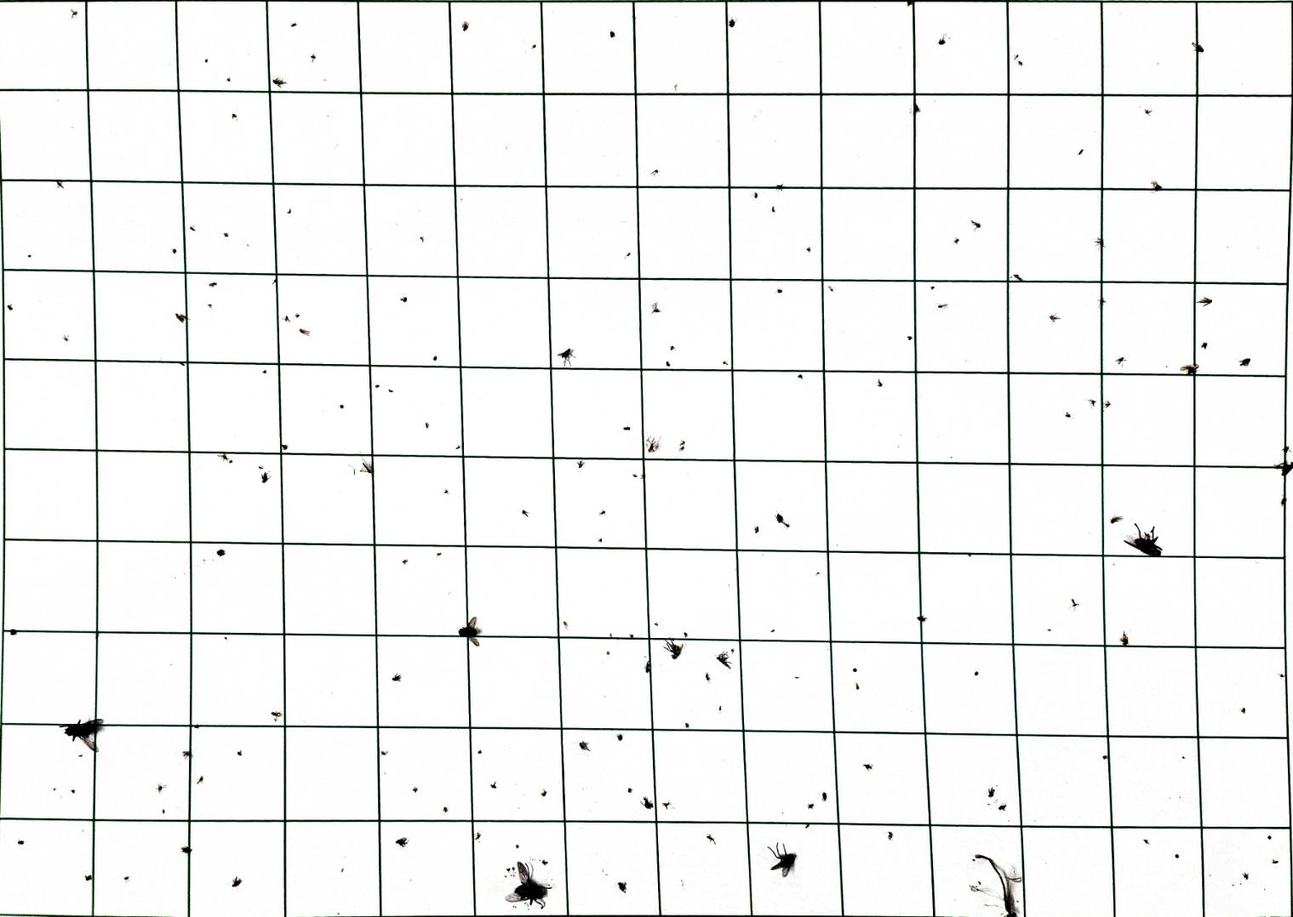fly: (504, 860, 553, 910), (62, 717, 103, 753), (1124, 521, 1163, 554), (768, 839, 798, 877), (455, 617, 485, 645)
test: (968, 851, 1024, 917), (985, 784, 1008, 813), (1272, 454, 1292, 482), (664, 639, 684, 659), (352, 458, 374, 476), (557, 346, 576, 366), (1088, 398, 1113, 411), (646, 435, 661, 453), (717, 652, 732, 669), (775, 513, 789, 529), (1179, 364, 1200, 374), (641, 795, 654, 810), (1192, 41, 1205, 53), (272, 77, 286, 88), (218, 453, 233, 463), (1119, 630, 1129, 645), (1284, 461, 1293, 477), (395, 837, 408, 848), (909, 104, 921, 115), (260, 471, 271, 483), (938, 33, 949, 45), (505, 865, 517, 876), (1198, 297, 1212, 306), (1110, 515, 1124, 524), (181, 847, 192, 858), (231, 876, 242, 887), (579, 740, 590, 751), (651, 301, 661, 313), (1049, 313, 1061, 323), (175, 313, 187, 323), (1014, 53, 1023, 66), (156, 783, 167, 793), (706, 833, 716, 844), (299, 326, 310, 336), (593, 535, 604, 545), (1150, 181, 1162, 190), (1239, 358, 1251, 367), (618, 881, 627, 893), (644, 659, 651, 674), (440, 485, 450, 495), (970, 220, 981, 229), (1070, 598, 1079, 609), (452, 441, 461, 452), (283, 206, 294, 215), (270, 711, 282, 719), (1088, 398, 1098, 407), (1094, 237, 1103, 247), (576, 459, 585, 469), (987, 787, 996, 797), (215, 547, 225, 556), (720, 357, 729, 367), (169, 246, 179, 255), (1013, 273, 1024, 281), (23, 251, 34, 259), (56, 180, 65, 189), (70, 9, 79, 18), (255, 462, 264, 471), (336, 401, 345, 410), (259, 367, 268, 376), (1115, 357, 1125, 365), (661, 801, 671, 809), (430, 352, 438, 362), (628, 471, 638, 479), (715, 703, 723, 713), (813, 570, 823, 578), (916, 615, 927, 622), (679, 440, 686, 451), (1045, 625, 1052, 636), (1098, 298, 1107, 306), (1276, 670, 1285, 678), (181, 750, 190, 758), (776, 183, 785, 191), (936, 303, 948, 309), (392, 673, 401, 681), (9, 628, 18, 636), (681, 629, 689, 638), (768, 626, 777, 634), (270, 275, 278, 284), (474, 831, 481, 841), (462, 22, 469, 32), (729, 18, 736, 28), (681, 721, 691, 728), (521, 509, 529, 517), (616, 733, 624, 741), (158, 806, 166, 814), (433, 549, 441, 557), (626, 631, 634, 639), (623, 249, 631, 257), (905, 0, 913, 8), (196, 775, 203, 784), (864, 763, 873, 770), (84, 874, 93, 881), (1144, 108, 1153, 115), (651, 619, 660, 626), (728, 645, 735, 654), (530, 41, 537, 50), (224, 76, 233, 83), (705, 672, 711, 682), (1288, 494, 1293, 506), (822, 791, 828, 801), (770, 204, 776, 214), (490, 781, 497, 789), (62, 335, 70, 342), (1200, 342, 1208, 349), (540, 789, 547, 797), (380, 749, 388, 756), (651, 169, 659, 176), (1243, 872, 1250, 880), (609, 30, 616, 38), (385, 386, 393, 393), (474, 748, 482, 755), (851, 665, 858, 673), (221, 231, 229, 238), (202, 57, 210, 64), (887, 831, 893, 840), (338, 865, 344, 874), (603, 648, 612, 654), (205, 303, 215, 308), (953, 237, 960, 244), (400, 296, 407, 303), (1077, 148, 1084, 155), (281, 443, 288, 450), (283, 315, 290, 322), (807, 803, 814, 810), (7, 304, 14, 311), (189, 225, 196, 232), (220, 633, 227, 640), (373, 382, 380, 389), (877, 379, 883, 387), (18, 839, 26, 845), (562, 620, 568, 628), (1271, 858, 1279, 864), (294, 313, 302, 319), (792, 674, 800, 680), (178, 359, 184, 367), (754, 525, 759, 534), (208, 282, 217, 287), (124, 875, 130, 882), (1287, 445, 1293, 452), (1065, 412, 1072, 418), (805, 823, 812, 829), (237, 749, 243, 756), (541, 859, 548, 865), (828, 285, 834, 292), (599, 510, 606, 516), (310, 54, 316, 61), (442, 806, 448, 813), (232, 113, 238, 120), (1240, 707, 1246, 714), (806, 246, 812, 253), (1143, 838, 1150, 844), (606, 631, 612, 638), (1180, 754, 1187, 760), (855, 682, 860, 690), (412, 787, 418, 793), (419, 236, 425, 242), (777, 288, 783, 294), (627, 787, 633, 793), (402, 558, 408, 564), (70, 788, 76, 794), (665, 361, 671, 367), (623, 426, 630, 431), (425, 422, 430, 429), (797, 374, 804, 379), (1102, 754, 1109, 759), (753, 192, 758, 199), (290, 23, 297, 28), (48, 787, 56, 791), (670, 345, 675, 351), (907, 335, 913, 340), (515, 843, 520, 849), (930, 285, 936, 290), (974, 670, 979, 676), (1267, 834, 1273, 839), (1174, 853, 1179, 858)
